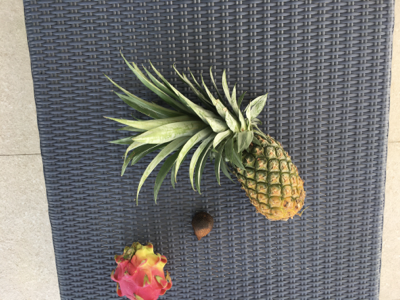dragon fruit: (112, 243, 173, 300)
pineapple: (104, 50, 306, 223)
snake fruit: (192, 211, 214, 241)
